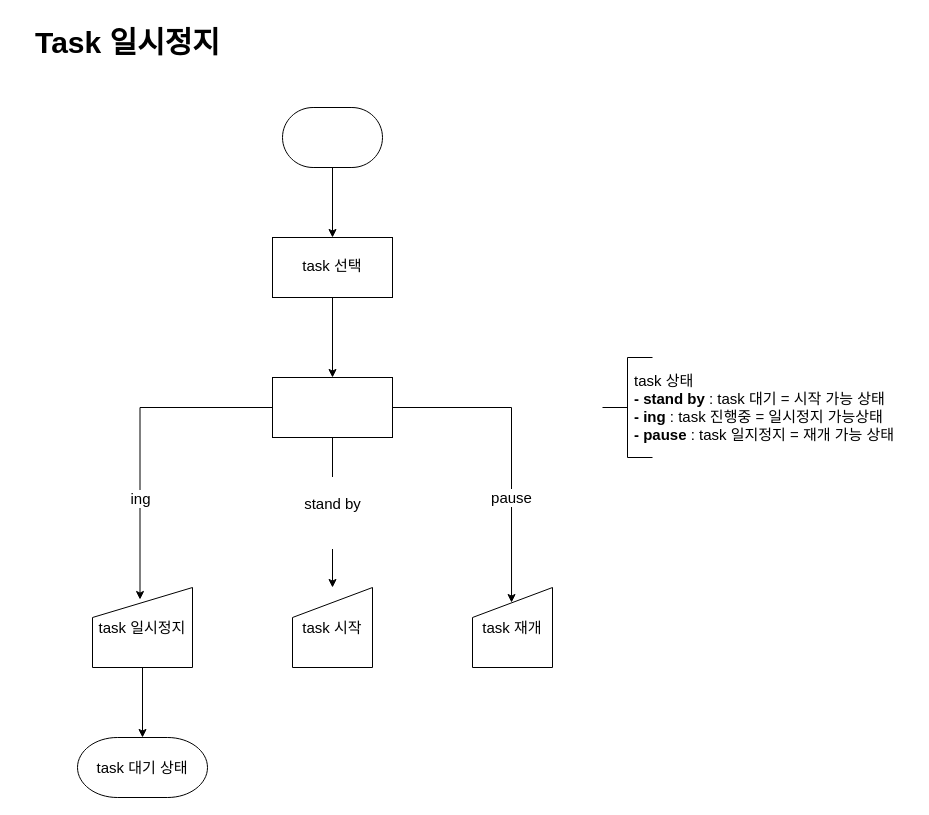
Image size: 929x815. Some labels were removed from this diagram. Here are the shapes that lost their labels. From the top down, the centre of each, then its label:
At point 332,137: "로그인".
At point 332,407: "task 상태".
